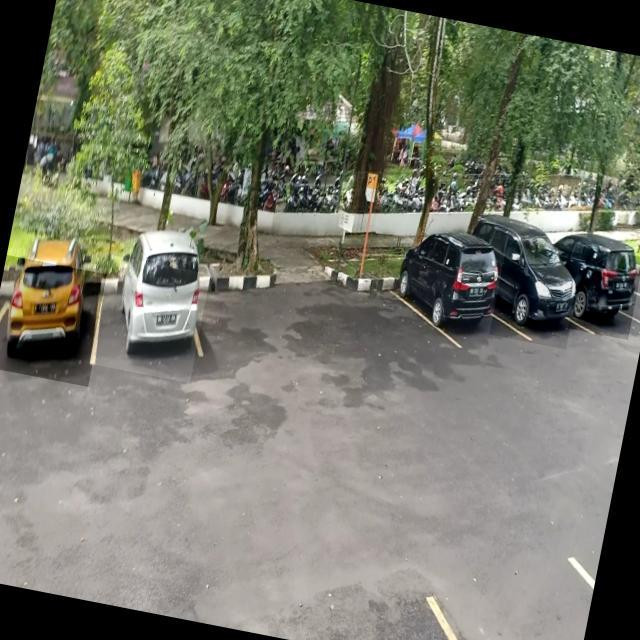occupied: (90, 255, 210, 383), (0, 255, 109, 386), (388, 244, 502, 348), (490, 240, 584, 350), (568, 246, 640, 340)
